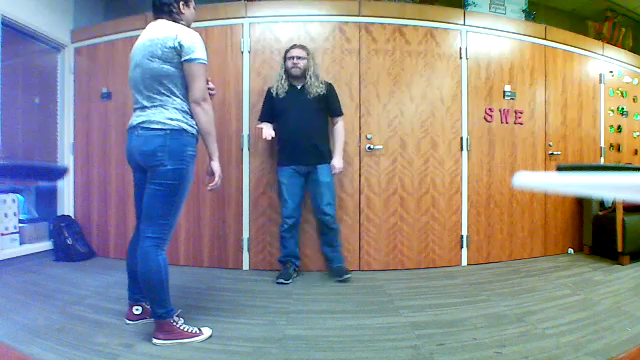land: (253, 120, 280, 143)
